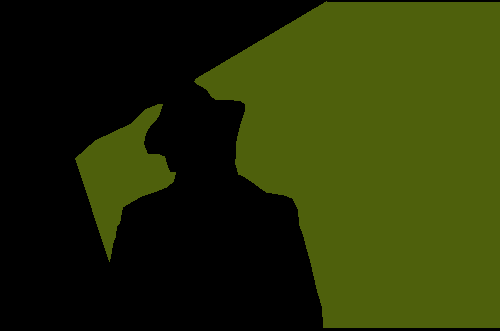Train: (75, 1, 500, 328)
